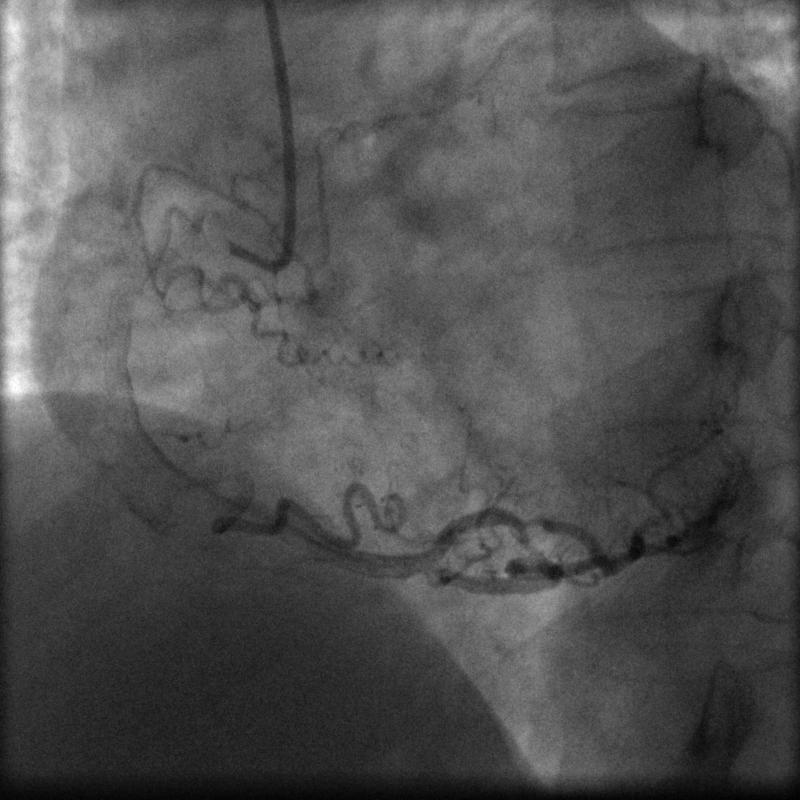Stenosis: (496, 502, 546, 541)
